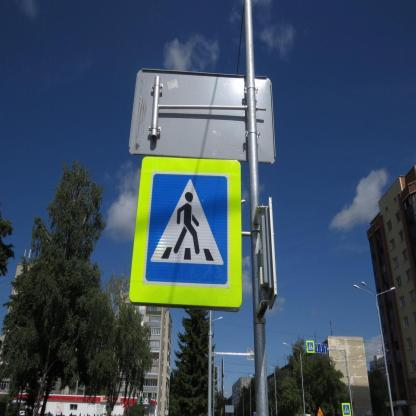road_sign: (129, 157, 241, 309), (340, 400, 351, 416), (306, 338, 315, 355)
